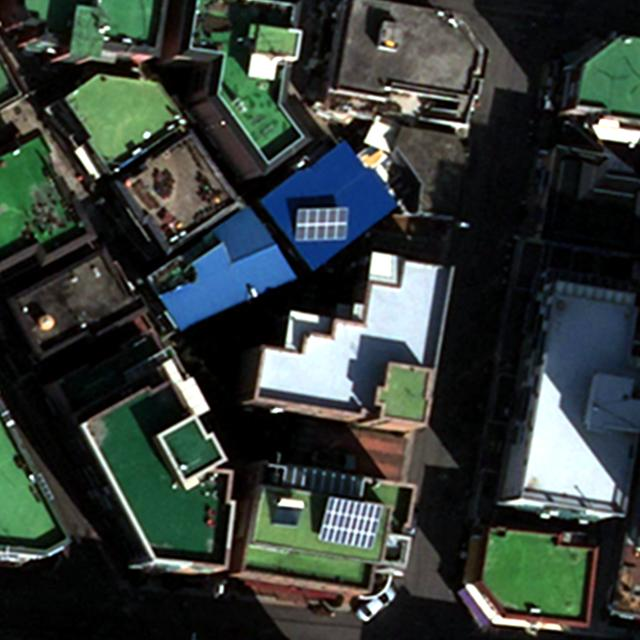panel: (318, 494, 382, 553), (290, 206, 353, 242)
